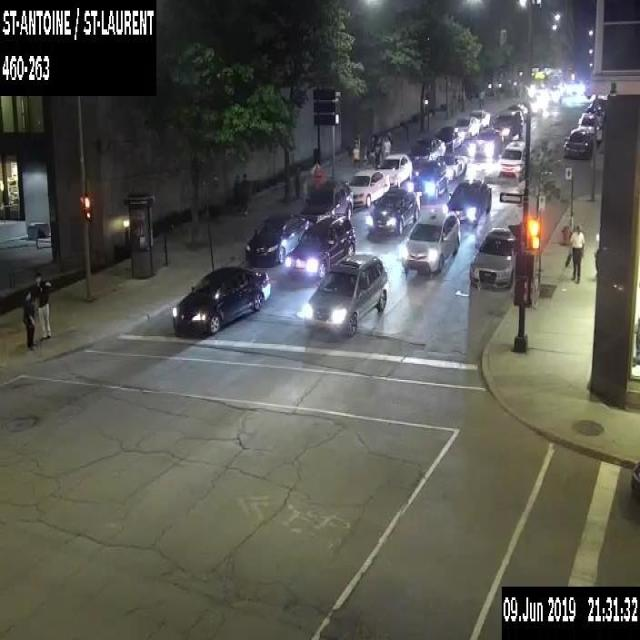bus: (526, 67, 562, 101)
construction: (313, 168, 323, 182)
pedestrian: (564, 221, 586, 284), (32, 270, 51, 340), (23, 289, 36, 351), (234, 173, 242, 216), (240, 172, 248, 215), (351, 142, 360, 171), (367, 136, 375, 168), (375, 136, 383, 164), (382, 135, 390, 157), (478, 88, 484, 106)
vehicle: (303, 252, 387, 337), (172, 264, 270, 334), (284, 216, 356, 279), (400, 210, 460, 270), (245, 211, 312, 264), (469, 226, 515, 290), (366, 187, 420, 235), (298, 179, 352, 224), (444, 178, 491, 225), (348, 168, 389, 207), (406, 165, 447, 200), (376, 153, 412, 188), (407, 136, 446, 166), (488, 108, 523, 140), (497, 140, 525, 180), (469, 126, 502, 157), (563, 126, 592, 158), (434, 152, 467, 180), (434, 124, 464, 150), (578, 110, 601, 140), (454, 115, 479, 138), (506, 102, 527, 120), (469, 108, 490, 126), (630, 459, 639, 500), (586, 97, 606, 114)
